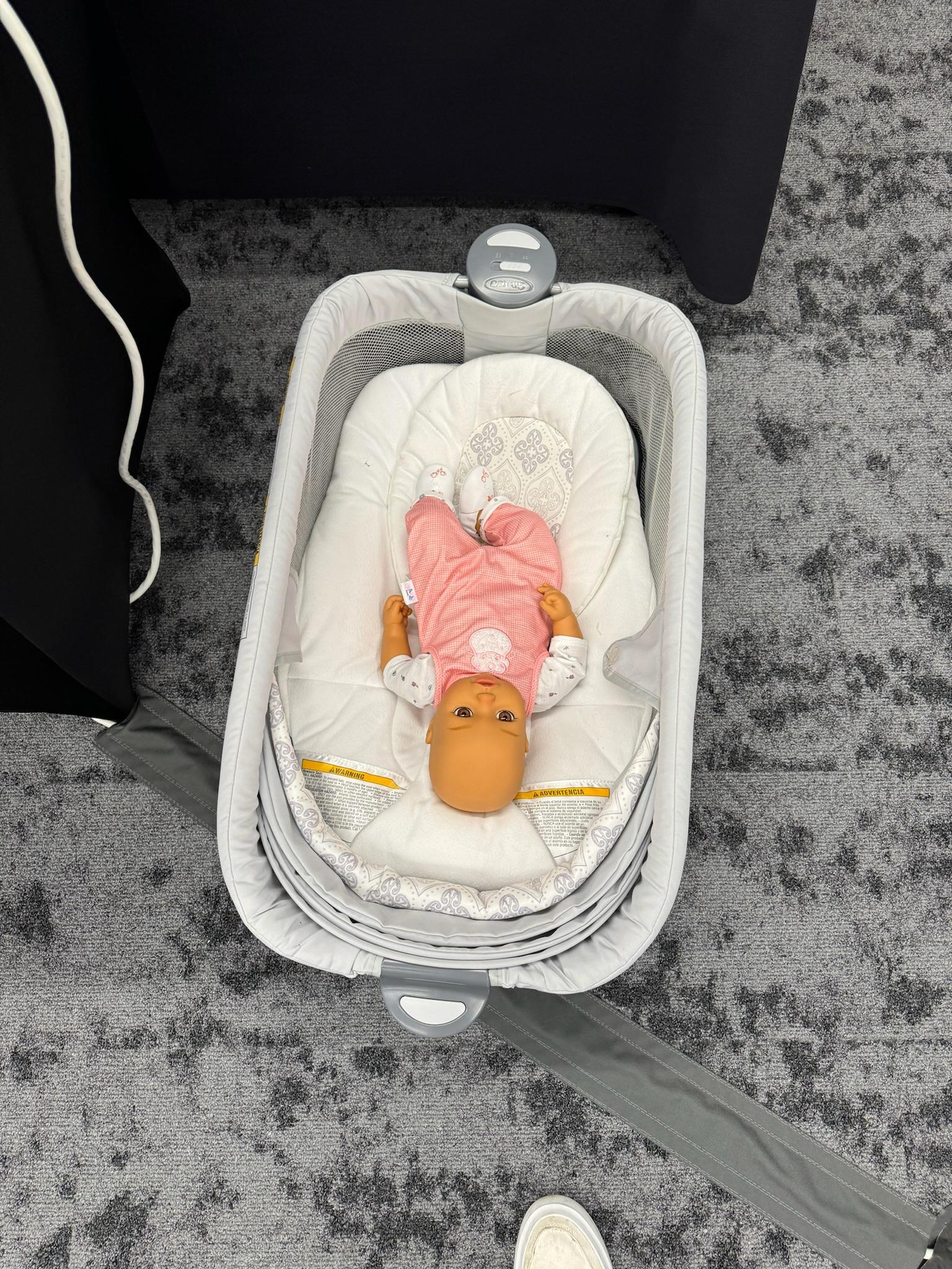baby: (386, 457, 591, 819)
